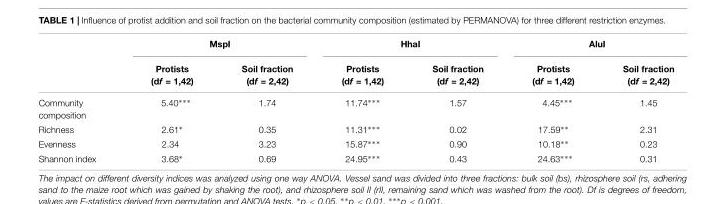table: (37, 37, 673, 164)
table column: (216, 37, 316, 164), (407, 37, 507, 164), (122, 37, 216, 164), (316, 37, 407, 164), (507, 37, 597, 164), (37, 37, 122, 164), (597, 37, 673, 164)
table column header: (37, 37, 673, 90)
table row: (37, 55, 673, 90), (37, 90, 673, 121), (37, 37, 673, 55), (37, 121, 673, 136), (37, 136, 673, 150), (37, 150, 673, 164)
table spanning cell: (122, 37, 316, 55), (316, 37, 507, 55), (507, 37, 673, 55)
